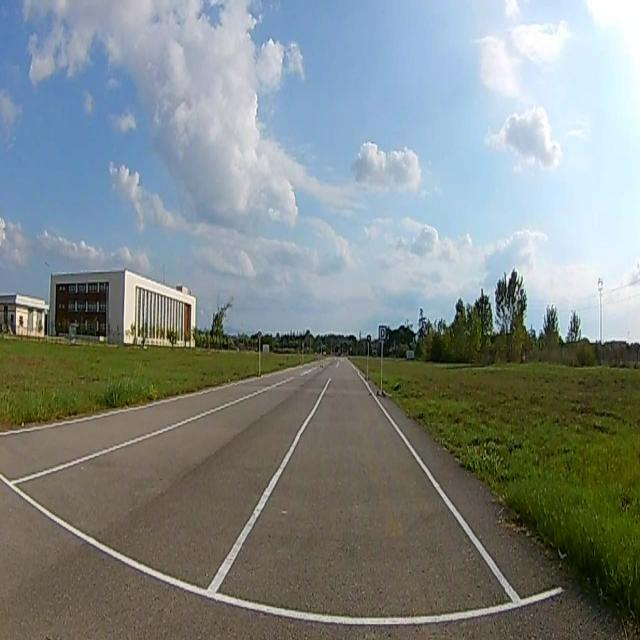durak: (379, 326, 387, 342)
